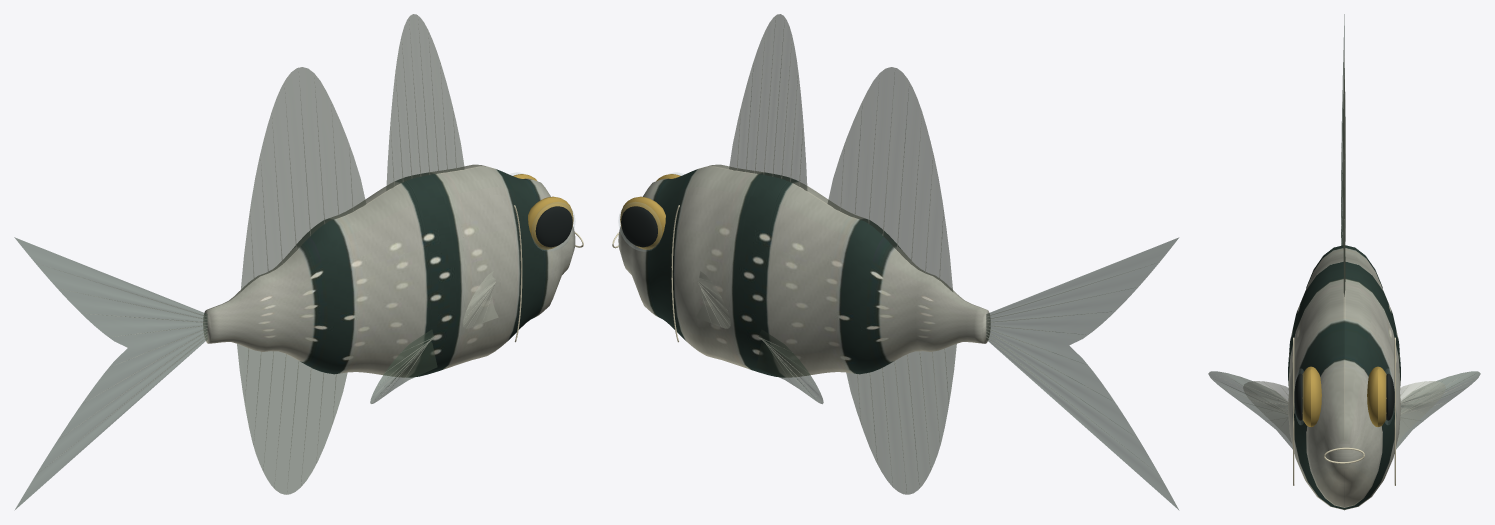
The model's file is banggai-mobile.glb.
3 views of the same model, side by side, from view 1: azimuth 30°, elevation 25°; view 2: azimuth 150°, elevation 25°; view 3: azimuth 270°, elevation 25° (orthographic). The views are drawn at different scales.
Visible parts, largest first — view 1: skin, dorsal, tail, anal, dorsal-ray, pelvic-left, eye-pupil--1, pectoral-left, eye-iris--1; view 2: skin, dorsal, tail, anal, dorsal-ray, pelvic-left, eye-pupil--1, pectoral-left, eye-iris--1; view 3: skin, pelvic-left, pectoral-left, eye-iris--1, operculum, eye-pupil--1, dorsal-ray, dorsal, tail.
Part boxes in pixels (<box>): skin: <box>203,164,575,377</box>; dorsal: <box>240,14,464,291</box>; tail: <box>14,237,207,509</box>; anal: <box>237,344,347,494</box>; dorsal-ray: <box>39,18,495,494</box>; pelvic-left: <box>370,329,437,403</box>; eye-pupil--1: <box>535,206,572,247</box>; pectoral-left: <box>463,271,498,328</box>; eye-iris--1: <box>513,174,573,249</box>; skin: <box>618,164,990,377</box>; dorsal: <box>729,14,953,291</box>; tail: <box>986,237,1178,509</box>; anal: <box>846,344,956,494</box>; dorsal-ray: <box>698,16,1156,488</box>; pelvic-left: <box>756,329,823,403</box>; eye-pupil--1: <box>621,206,657,247</box>; pectoral-left: <box>695,271,730,328</box>; eye-iris--1: <box>620,174,680,249</box>; skin: <box>1288,245,1400,509</box>; pelvic-left: <box>1208,371,1480,449</box>; pectoral-left: <box>1243,381,1445,443</box>; eye-iris--1: <box>1302,366,1386,426</box>; operculum: <box>1293,337,1395,485</box>; eye-pupil--1: <box>1294,373,1394,420</box>; dorsal-ray: <box>1210,102,1478,427</box>; dorsal: <box>1343,55,1345,296</box>; tail: <box>1341,14,1344,245</box>.
Bounding box in the file's own units: 0.5912 × 0.4539 × 0.2308.
Materials: 11 (1 with a texture image).
